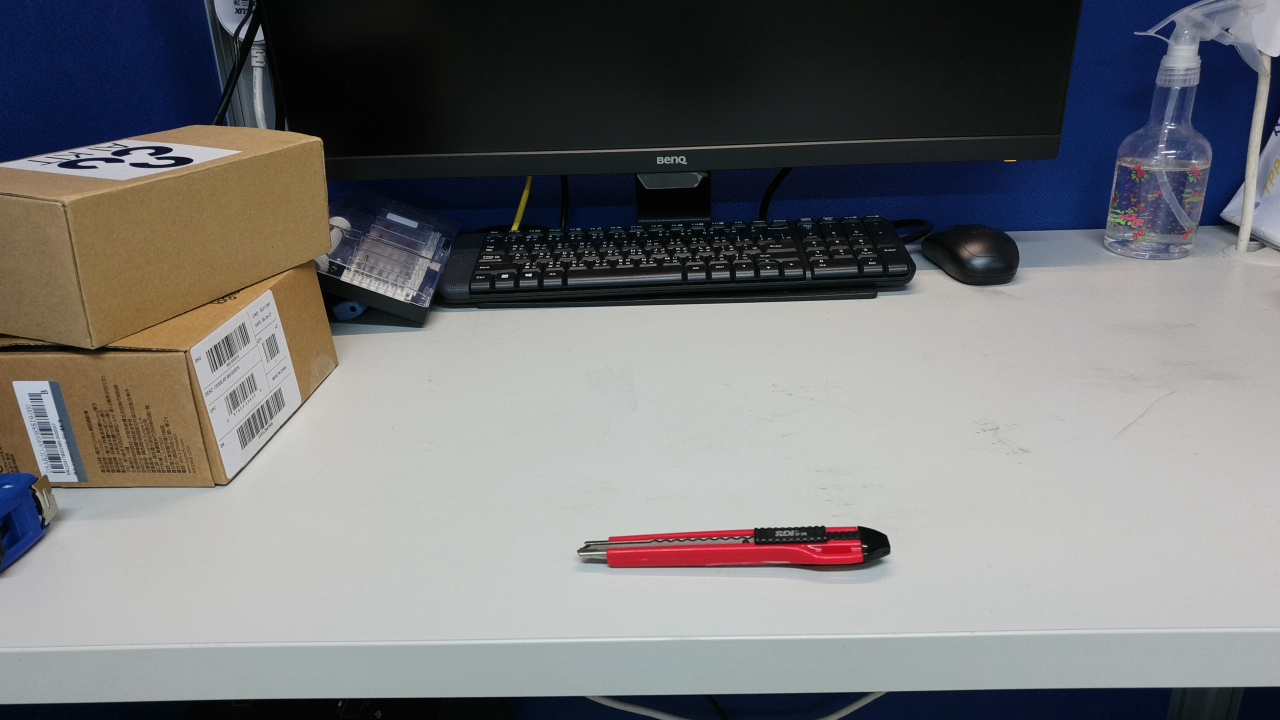columnar: (740, 230, 1018, 666)
